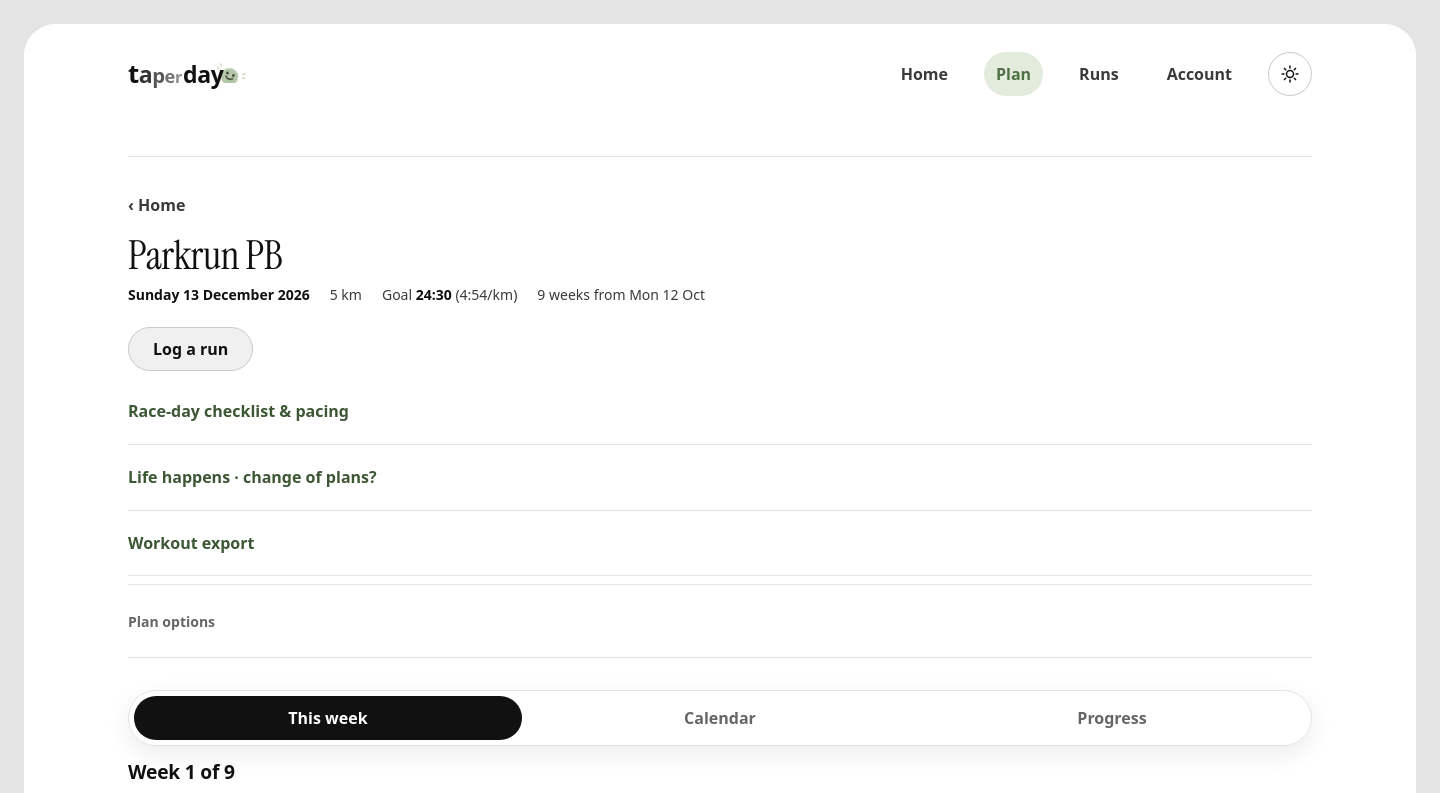
it: a signed-up runner › opens inside their plan after signing in, with Home and today’s run a tap away
Click the heading "Plan options" at (172, 621), box [128, 612, 215, 630]
(page scrolled)
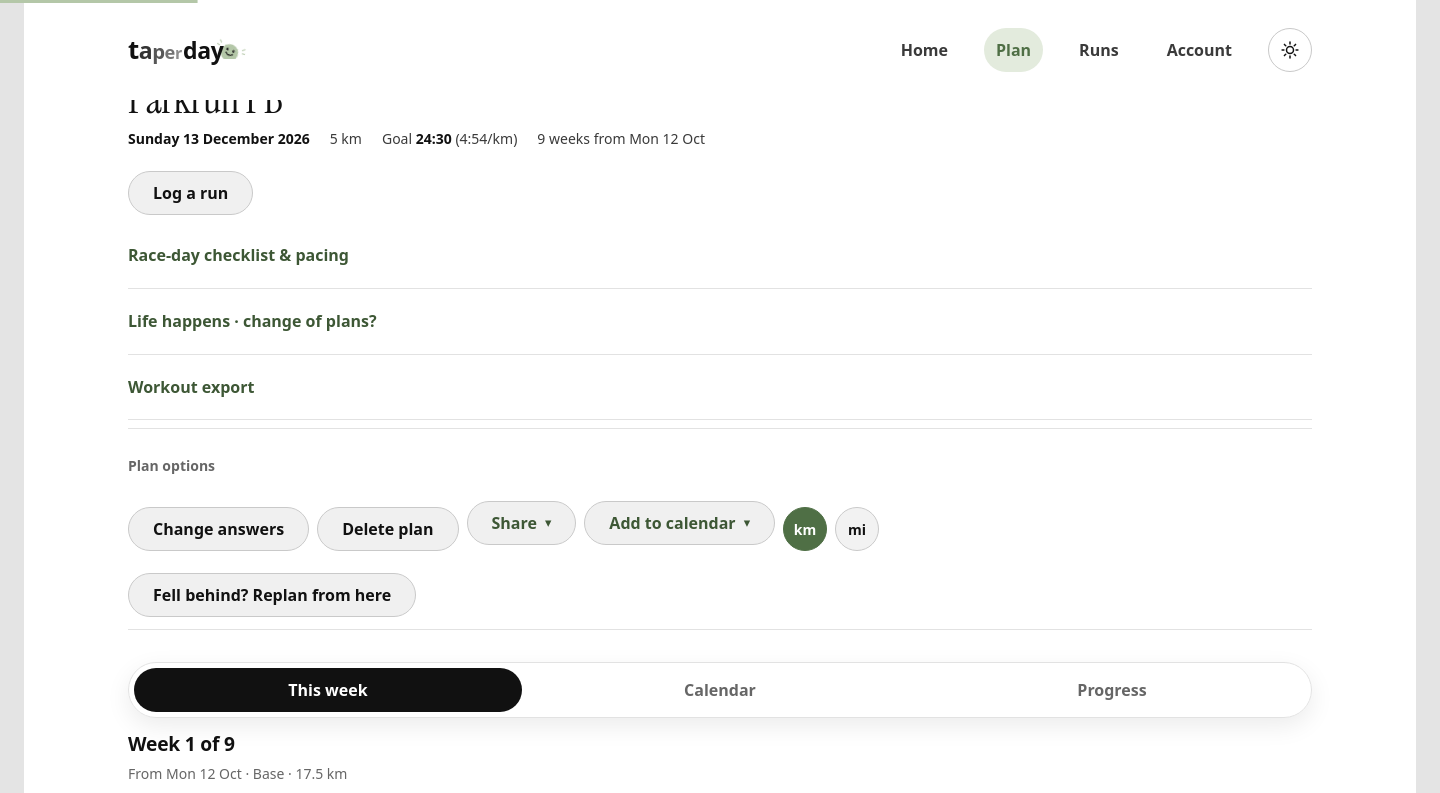
Expected: the heading "Welcome back, Thandi" is not shown
Expected: the button "Delete plan" is shown, [317, 507, 458, 551]
Click the button "Home" at (924, 50), box [889, 28, 960, 72]
(page scrolled)
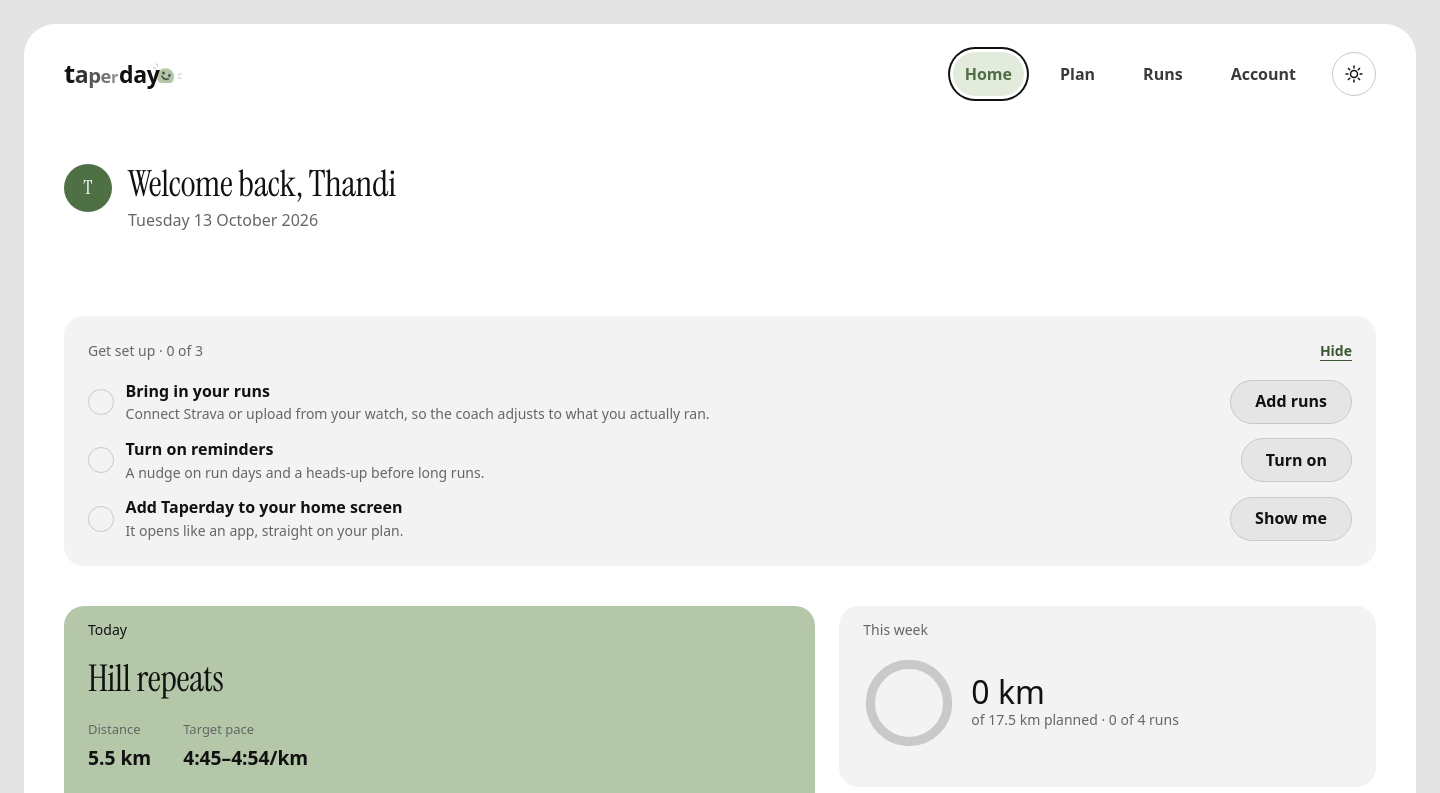
Expected: the text "Hill repeats" is shown, [88, 655, 223, 702]
Expected: the heading "Welcome back, Thandi" is shown, [128, 164, 396, 204]
